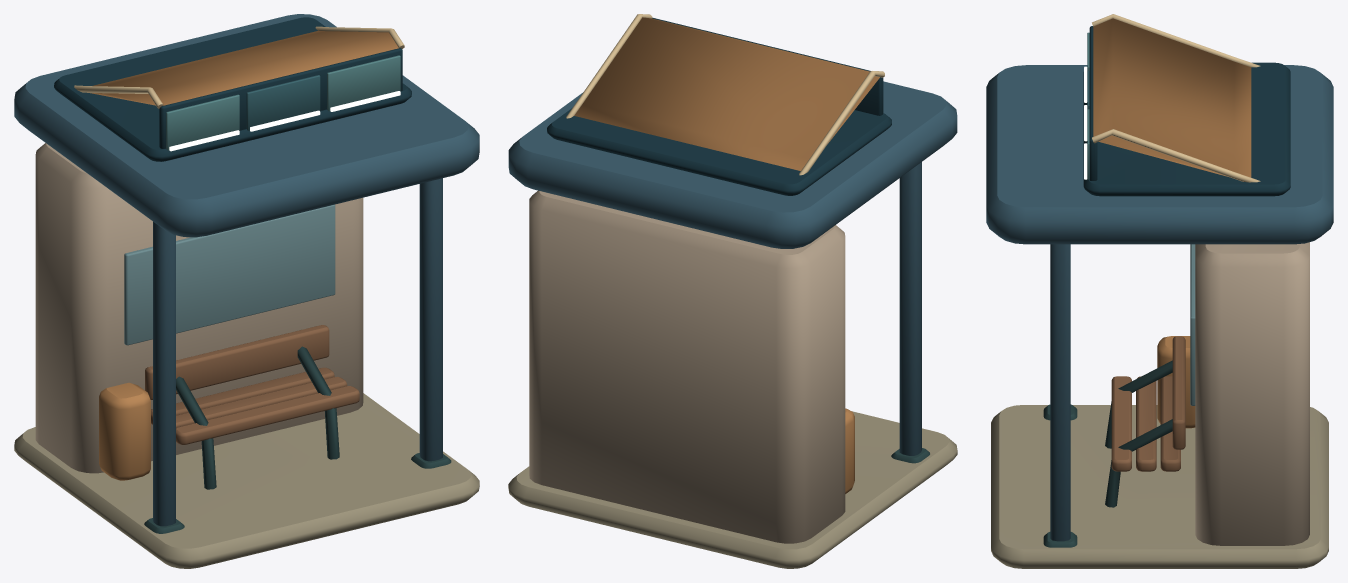
Rendered from annex_truck_park_4.glb.
3 views of the same model, side by side, from view 1: azimuth 30°, elevation 25°; view 2: azimuth 150°, elevation 25°; view 3: azimuth 270°, elevation 25° (orthographic). The views are drawn at different scales.
Parts seen in each view (by area): view 1: AnnexTruckPark4; view 2: AnnexTruckPark4; view 3: AnnexTruckPark4.
Boxes of the visible parts, <box> form: AnnexTruckPark4: <box>14,14,479,568</box>; AnnexTruckPark4: <box>508,14,957,568</box>; AnnexTruckPark4: <box>986,14,1333,568</box>.
Bounding box in the file's own units: 2.63 × 3.44 × 2.55.
